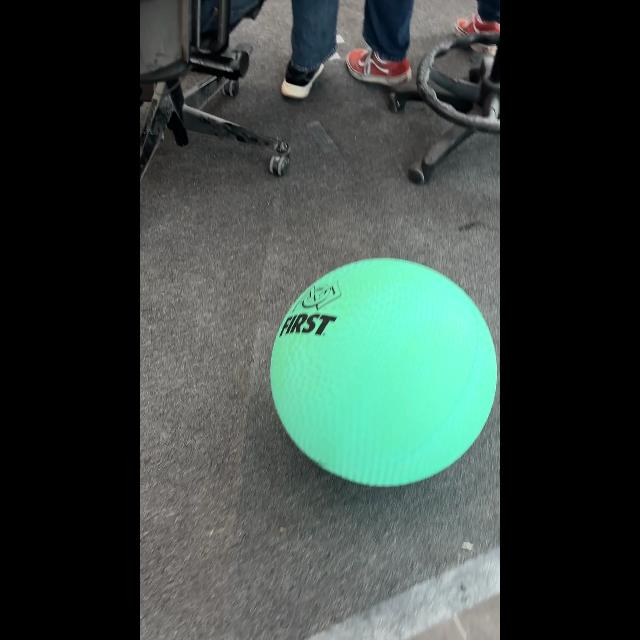ALGAE: (269, 256, 497, 488)
